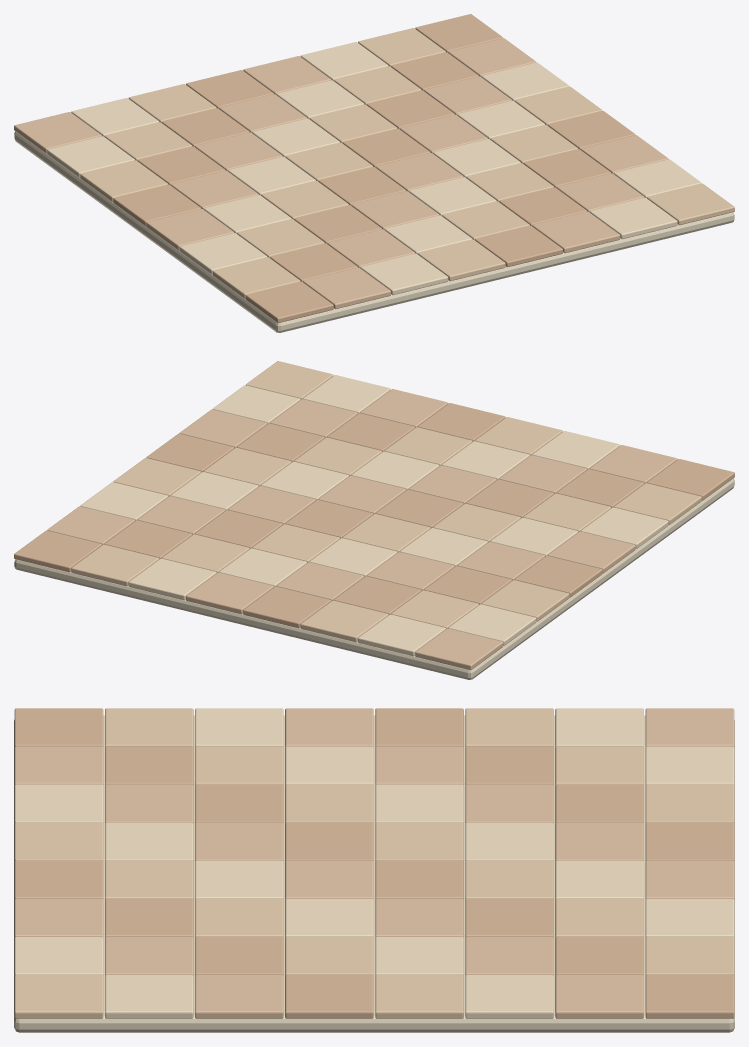
File: floor-module.glb
3 views of the same model, one above another, from view 1: azimuth 30°, elevation 25°; view 2: azimuth 150°, elevation 25°; view 3: azimuth 270°, elevation 25° (orthographic). The views are drawn at different scales.
Visible parts, largest first — view 1: floor_module_batched; view 2: floor_module_batched; view 3: floor_module_batched.
Part boxes in pixels (x1,y1,x2,y2): floor_module_batched: [14, 14, 734, 332]; floor_module_batched: [14, 361, 734, 679]; floor_module_batched: [14, 708, 734, 1032].
Size of the model in its own units: 4 by 0.1375 by 4.
